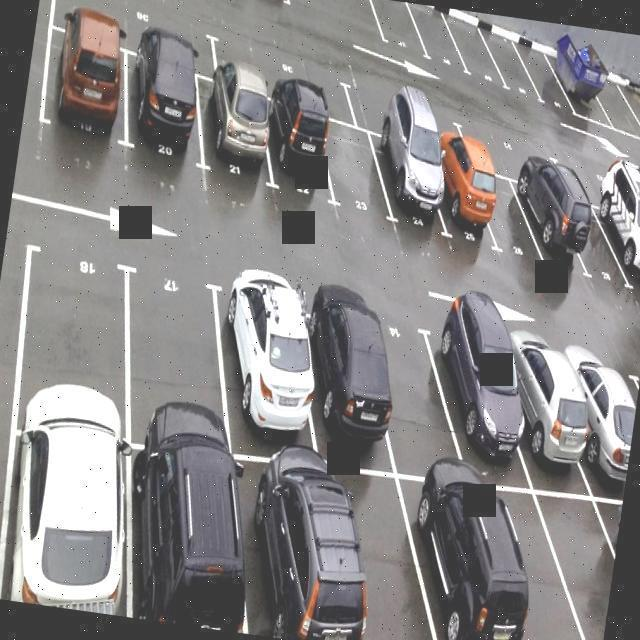space-empty: (332, 473, 451, 640), (128, 258, 224, 453), (19, 244, 135, 399), (520, 473, 625, 640), (477, 490, 589, 640), (365, 319, 453, 479), (209, 30, 357, 122), (47, 0, 211, 62), (317, 121, 391, 229), (472, 162, 538, 274), (554, 182, 626, 280), (511, 27, 583, 119), (354, 88, 462, 146), (439, 9, 510, 97), (478, 20, 544, 108), (401, 4, 467, 82), (556, 152, 640, 207), (463, 133, 561, 169), (368, 0, 424, 59)
space-occupied: (0, 429, 140, 615), (133, 450, 241, 628), (404, 482, 520, 640), (229, 472, 335, 640), (220, 274, 308, 444), (428, 323, 518, 488), (503, 326, 589, 490), (118, 49, 213, 193), (41, 27, 125, 175), (562, 341, 640, 499), (307, 298, 381, 458), (190, 80, 274, 202), (254, 94, 334, 216), (369, 126, 447, 239), (510, 176, 588, 280), (431, 146, 495, 258), (594, 196, 640, 288)
